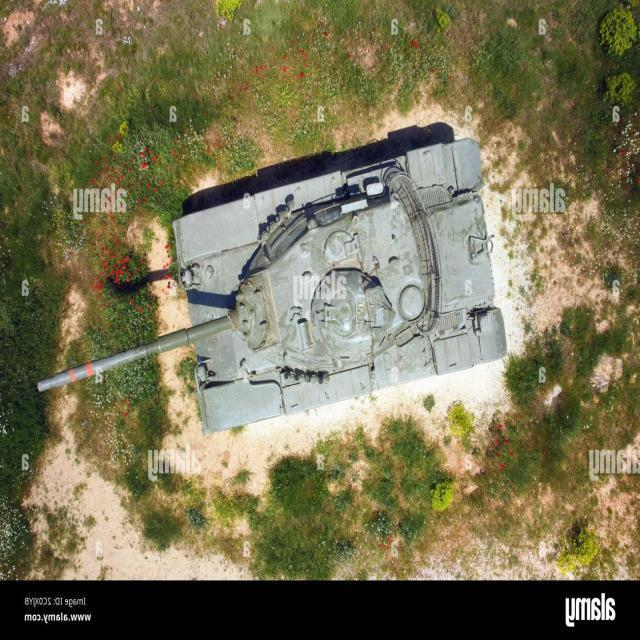Tanks: (37, 134, 510, 436)
